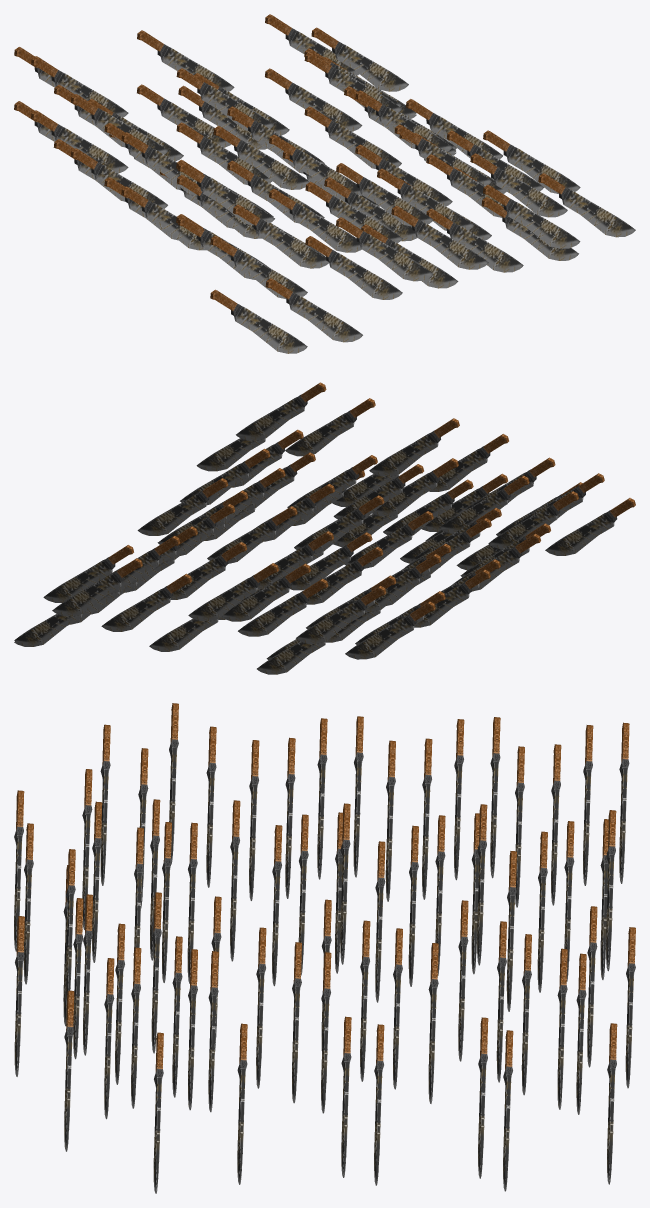
File: MacheteRain.fbx
3 renders of one model, top to bottom at view 1: azimuth 30°, elevation 25°; view 2: azimuth 150°, elevation 25°; view 3: azimuth 270°, elevation 25°, orthographic. The views are drawn at different scales.
Visible parts, largest first — view 1: Box001; view 2: Box001; view 3: Box001.
Part boxes in pixels (bbox=[...]): Box001: bbox=[14, 14, 635, 353]; Box001: bbox=[14, 382, 635, 674]; Box001: bbox=[14, 703, 635, 1193].
Size of the model in its own units: 848 by 335 by 775.
